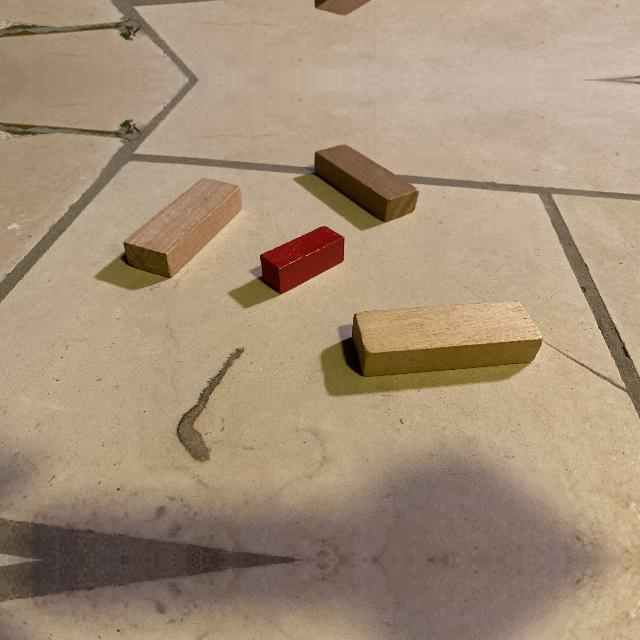jenga: (353, 301, 542, 377), (123, 178, 242, 276), (314, 145, 419, 222)
red block: (260, 226, 345, 294)
